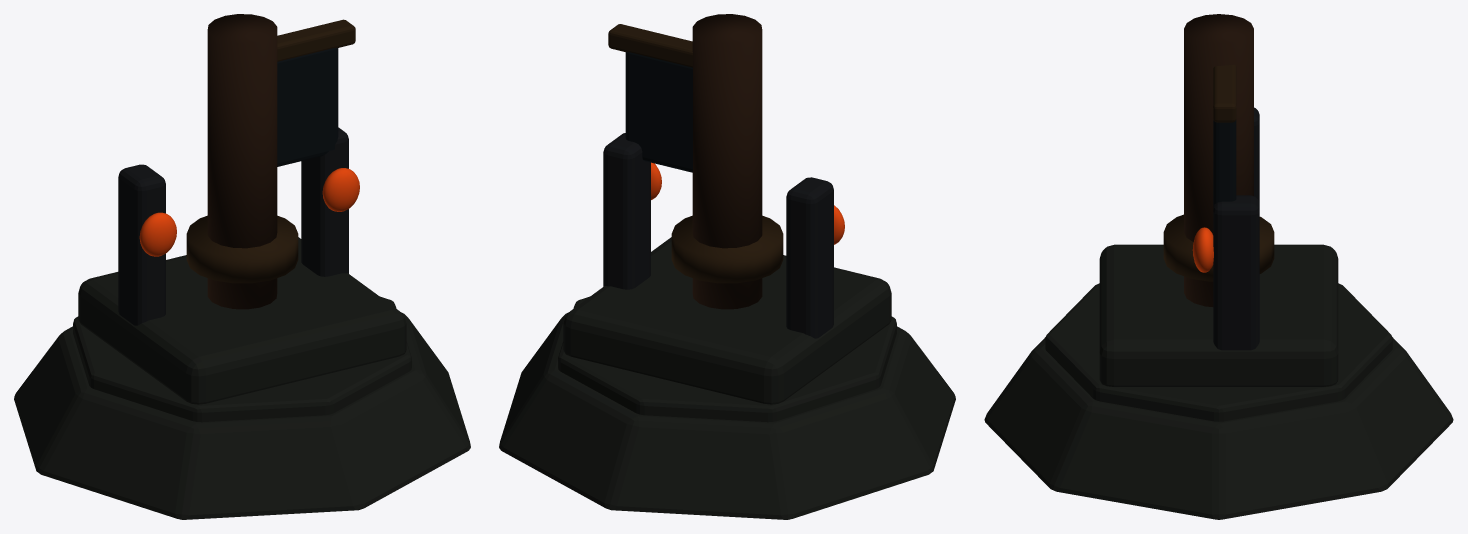
File: TowerAura0.obj
3 renders of one model, left to right at view 1: azimuth 30°, elevation 25°; view 2: azimuth 150°, elevation 25°; view 3: azimuth 270°, elevation 25°, orthographic.
Parts seen in each view (by area): view 1: circular_stone_dais_lower_course, carved_stone_root, oak_banner_mast, circular_stone_dais_upper_course, dark_command_banner, iron_ritual_pillar, iron_ritual_pillar.001, bronze_mast_collar, bronze_banner_bar, amber_pillar_rune, amber_pillar_rune.001; view 2: circular_stone_dais_lower_course, carved_stone_root, oak_banner_mast, circular_stone_dais_upper_course, iron_ritual_pillar, dark_command_banner, iron_ritual_pillar.001, bronze_mast_collar, bronze_banner_bar; view 3: circular_stone_dais_lower_course, carved_stone_root, circular_stone_dais_upper_course, oak_banner_mast, iron_ritual_pillar.001, bronze_mast_collar, dark_command_banner, bronze_banner_bar, amber_pillar_rune.001, iron_ritual_pillar.
Boxes of the visible parts, x1,y1,x2,y2 form: circular_stone_dais_lower_course: (14, 312, 470, 519); carved_stone_root: (78, 237, 406, 404); oak_banner_mast: (207, 14, 277, 309); circular_stone_dais_upper_course: (73, 296, 411, 422); dark_command_banner: (277, 47, 338, 166); iron_ritual_pillar: (118, 164, 165, 325); iron_ritual_pillar.001: (301, 127, 348, 276); bronze_mast_collar: (186, 215, 298, 283); bronze_banner_bar: (277, 19, 355, 61); amber_pillar_rune: (139, 212, 176, 256); amber_pillar_rune.001: (322, 168, 359, 211); circular_stone_dais_lower_course: (499, 312, 955, 519); carved_stone_root: (563, 237, 891, 404); oak_banner_mast: (692, 14, 762, 309); circular_stone_dais_upper_course: (558, 296, 896, 422); iron_ritual_pillar: (786, 177, 833, 338); dark_command_banner: (625, 52, 692, 172); iron_ritual_pillar.001: (603, 133, 650, 289); bronze_mast_collar: (671, 215, 783, 283); bronze_banner_bar: (608, 24, 692, 67); circular_stone_dais_lower_course: (984, 337, 1453, 519); carved_stone_root: (1099, 244, 1338, 386); circular_stone_dais_upper_course: (1045, 283, 1392, 421); oak_banner_mast: (1184, 14, 1253, 306); iron_ritual_pillar.001: (1213, 195, 1259, 350); bronze_mast_collar: (1163, 214, 1274, 281); dark_command_banner: (1213, 120, 1236, 205); bronze_banner_bar: (1213, 65, 1236, 122); amber_pillar_rune.001: (1192, 227, 1213, 272); iron_ritual_pillar: (1254, 107, 1259, 202).
Bounding box in the file's own units: 1.61 × 1.49 × 1.61.
